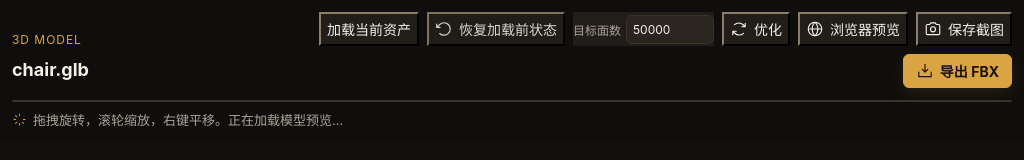
Test: ModelViewport › shows a business failure returned by the FBX tool without opening tasks
The image size is (1024, 160).
expect the heading "chair.glb" is shown: met, box [12,59,89,80]
Click the button "导出 FBX". click: [957, 71]
box: [903,54,1012,88]
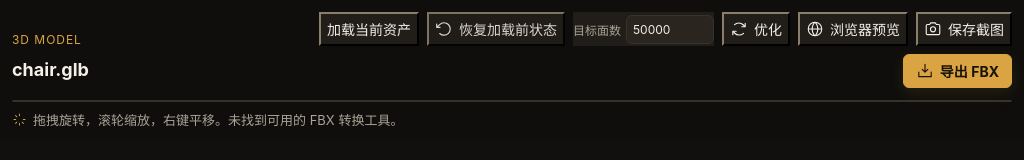
expect the text "拖拽旋转，滚轮缩放，右键平移。未找到可用的 FBX 转换工具。" is shown: met, box [12,112,403,128]
